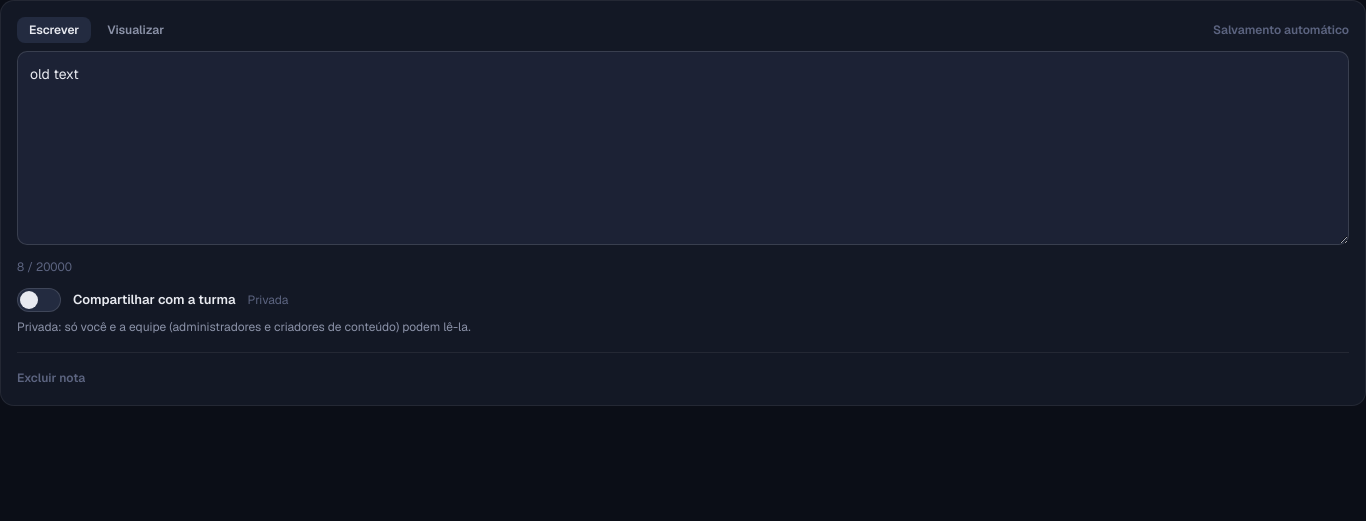
Test: MyNoteEditor › on 409 NOTE_STALE › Keep mine re-sends the local text on the current revision
The image size is (1366, 521).
Replace the text in the text box named "Sua nota sobre este tópico" with "my local text". click: (683, 148)
box: [17, 51, 1349, 245]
Wait 2000 ms
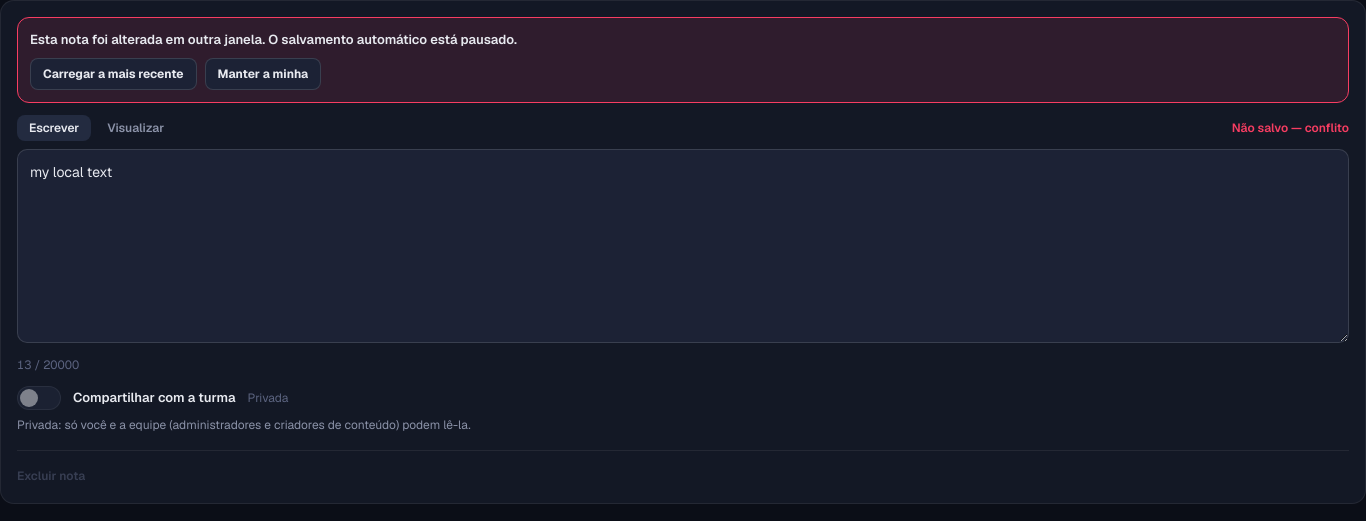
Click the button "Manter a minha". click: (263, 74)
box: [205, 58, 321, 90]
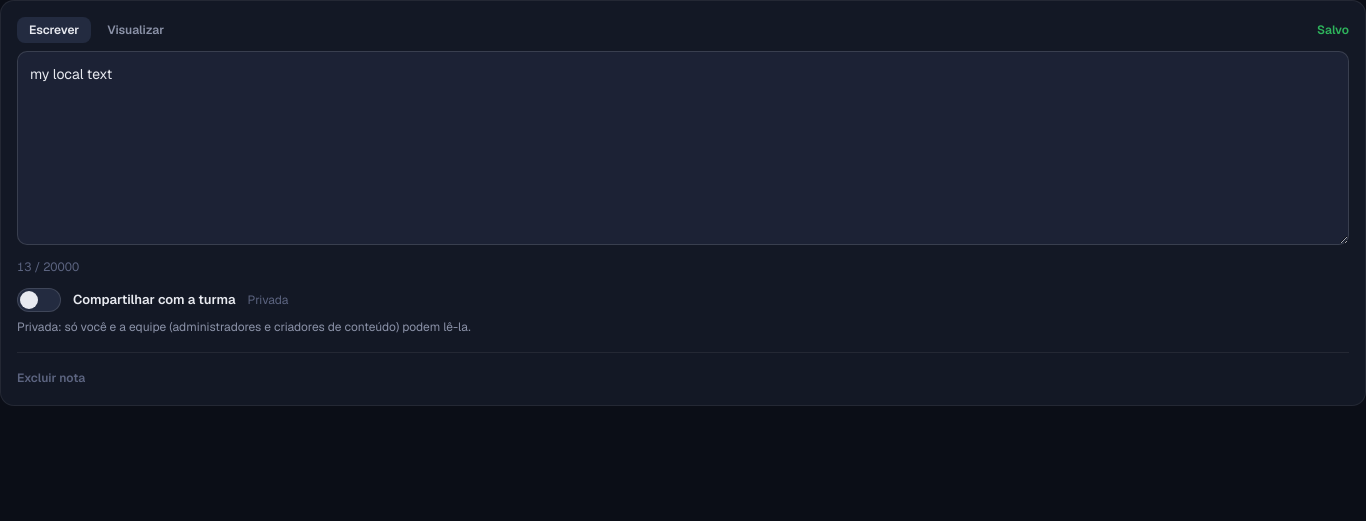
Expected: the text "Salvo" is shown, [1317, 21, 1349, 39]
Expected: the text "Esta nota foi alterada em outra janela. O salvamento automático está pausado." is gone
